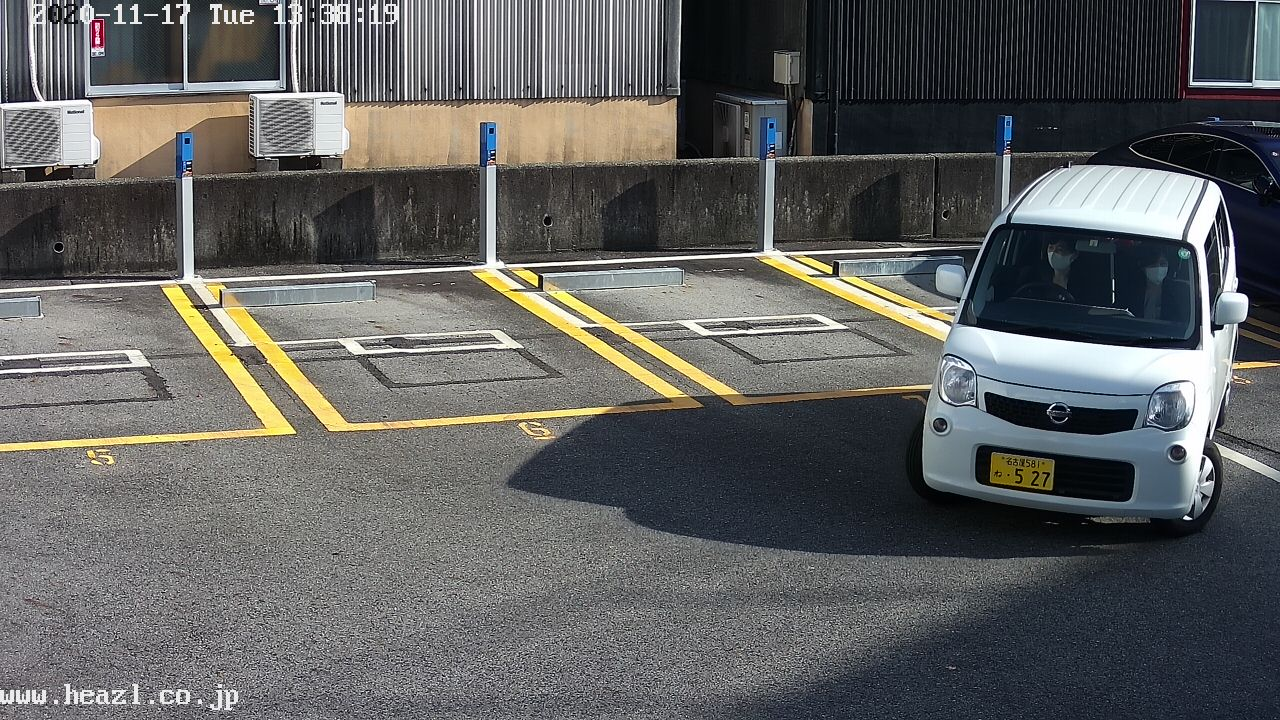number_plate: (990, 452, 1053, 494)
